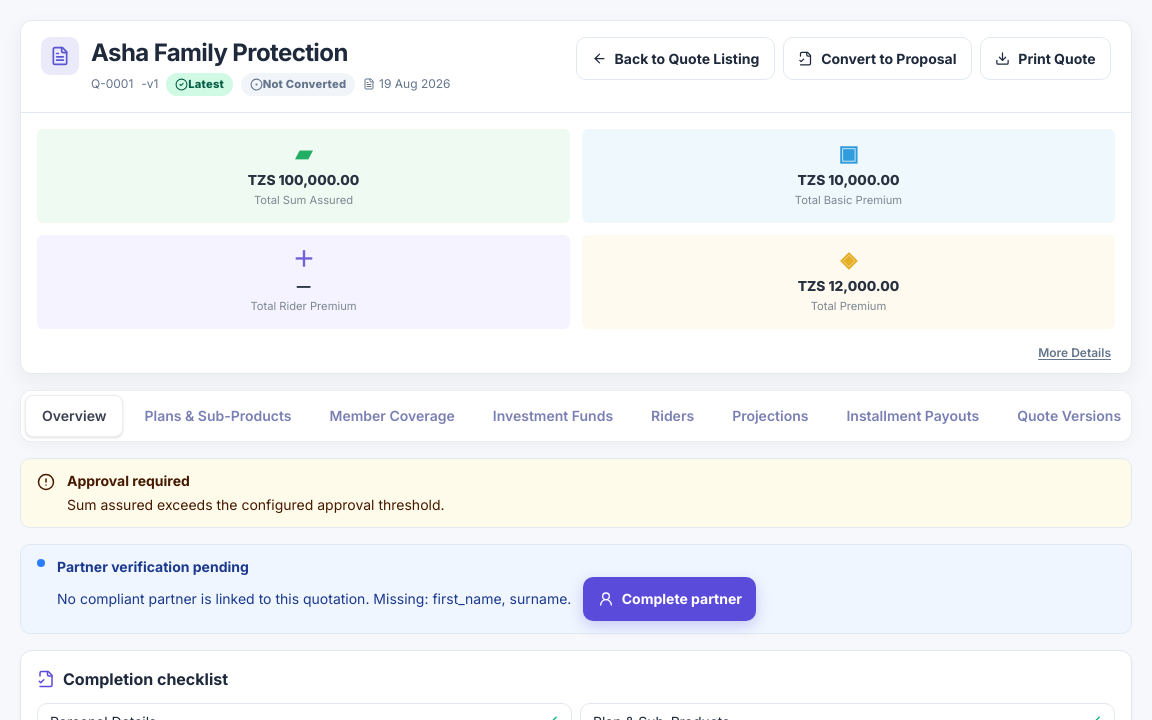
Scenario: OL quotation detail lifecycle › routes the quote print action to the authenticated documents tab
Expected: the text "Q-0001" is shown, [91, 76, 133, 92]
Click the button "Print Quote": (1045, 58) [980, 37, 1111, 80]
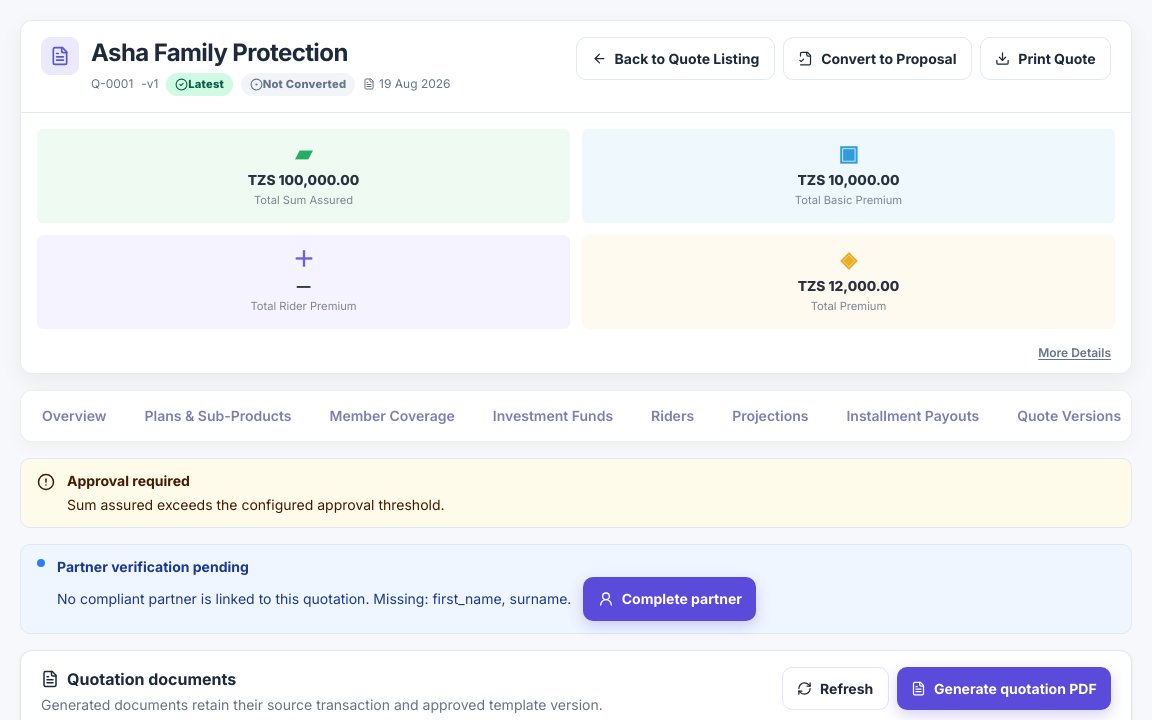
Result: the heading "Quotation documents" is shown at [41, 669, 236, 689]
Result: the button "Generate quotation PDF" is shown at [897, 667, 1111, 710]
